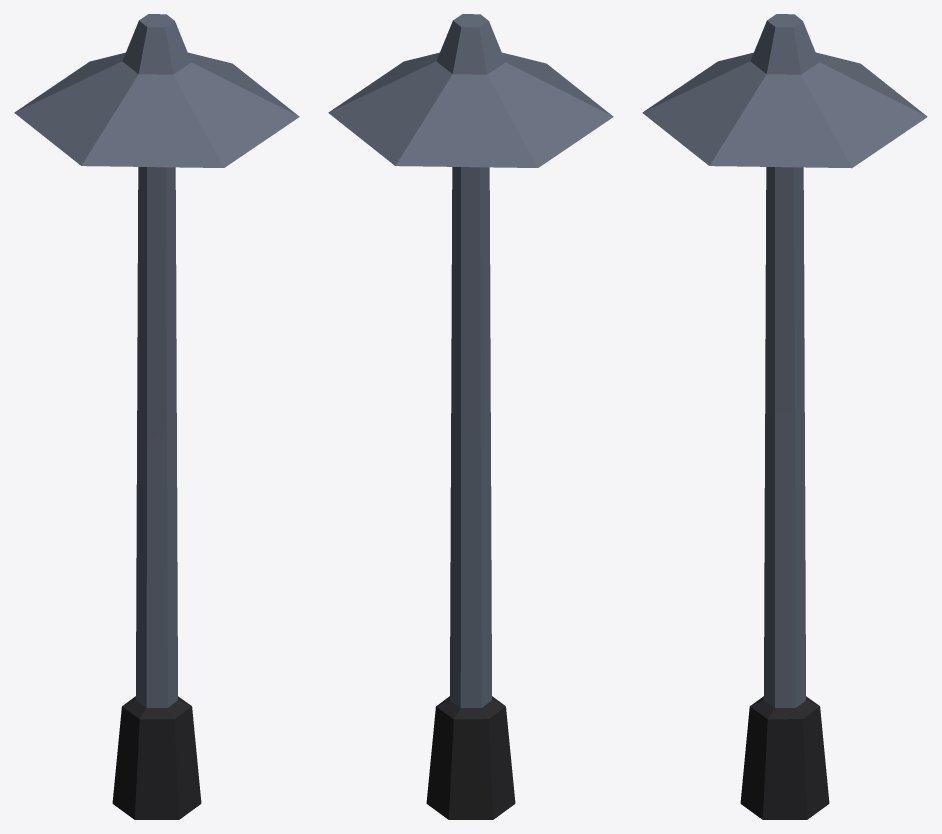
File: Lantern 4 Fractured.fbx
The picture shows the model from 3 angles, left to right: view 1: azimuth 30°, elevation 25°; view 2: azimuth 150°, elevation 25°; view 3: azimuth 270°, elevation 25°; orthographic projection.
Parts seen in each view (by area): view 1: Lantern_04_Breaking, Lantern_04_Breaking.001; view 2: Lantern_04_Breaking, Lantern_04_Breaking.001; view 3: Lantern_04_Breaking, Lantern_04_Breaking.001.
Boxes of the visible parts, left/top/right/bottom form: Lantern_04_Breaking: left=14, top=14, right=299, bottom=443; Lantern_04_Breaking.001: left=112, top=407, right=201, bottom=819; Lantern_04_Breaking: left=328, top=14, right=613, bottom=443; Lantern_04_Breaking.001: left=426, top=407, right=515, bottom=819; Lantern_04_Breaking: left=642, top=14, right=927, bottom=420; Lantern_04_Breaking.001: left=740, top=413, right=829, bottom=819.
Size of the model in its own units: 60.95 by 209 by 69.03.
